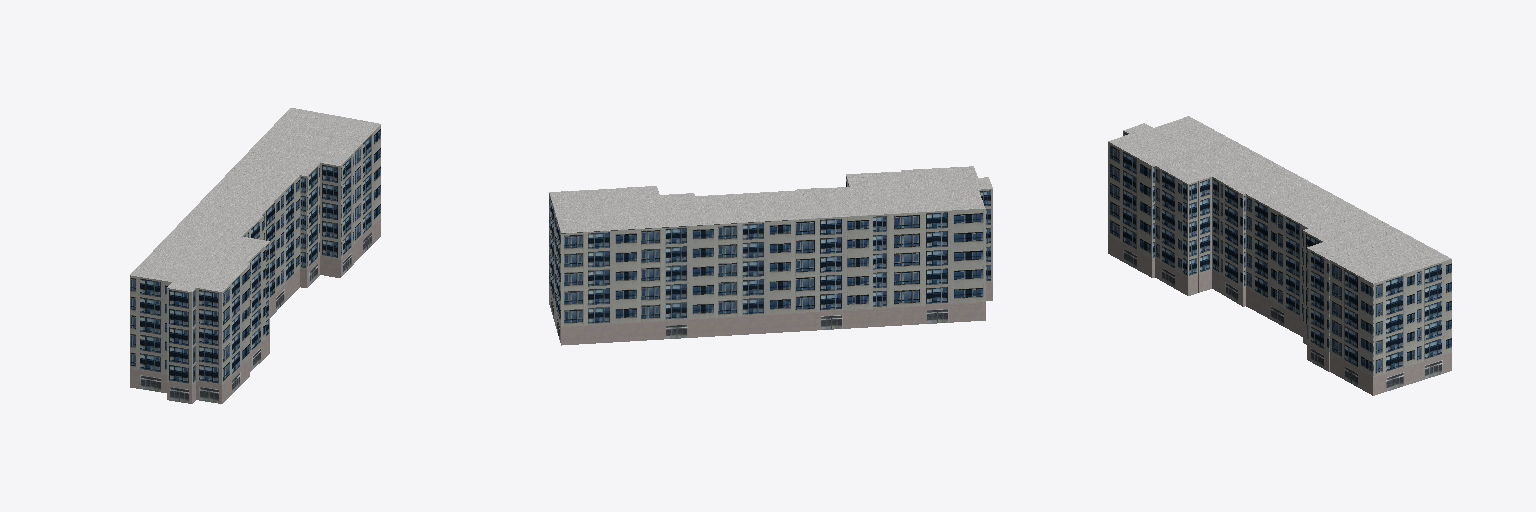
3 views of the same model, side by side, from view 1: azimuth 30°, elevation 25°; view 2: azimuth 150°, elevation 25°; view 3: azimuth 270°, elevation 25° (orthographic).
Visible parts, largest first — view 1: BuildingMaster_[number redacted]_0, BuildingMaster_[number redacted]_1; view 2: BuildingMaster_[number redacted]_0, BuildingMaster_[number redacted]_1; view 3: BuildingMaster_[number redacted]_0, BuildingMaster_[number redacted]_1.
Part boxes in pixels (x1,y1,x2,y2): BuildingMaster_[number redacted]_0: (130,125,380,403); BuildingMaster_[number redacted]_1: (130,108,380,291); BuildingMaster_[number redacted]_0: (549,176,992,345); BuildingMaster_[number redacted]_1: (549,166,992,232); BuildingMaster_[number redacted]_0: (1108,131,1451,395); BuildingMaster_[number redacted]_1: (1108,116,1450,283).
Size of the model in its own units: 67.44 by 21 by 58.41.
2 materials, 2 textured.